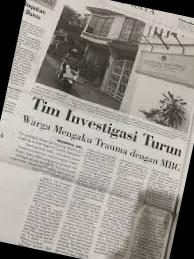Kertas: (2, 0, 194, 184), (14, 132, 177, 259)
